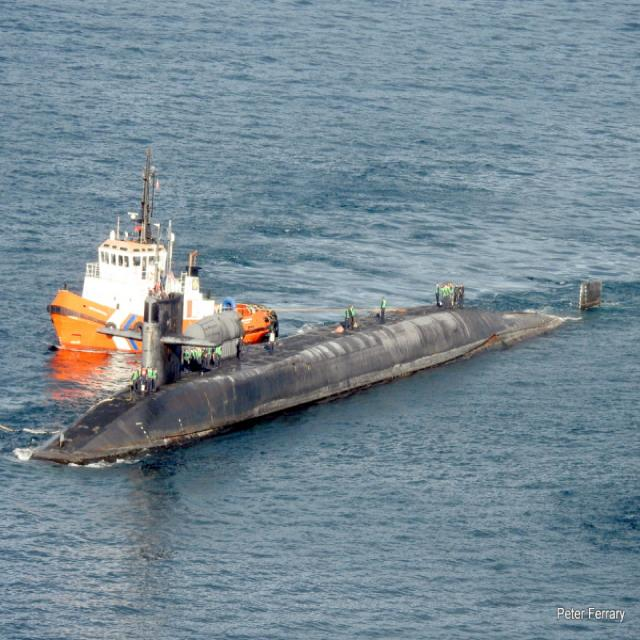submarine: (36, 272, 604, 469)
